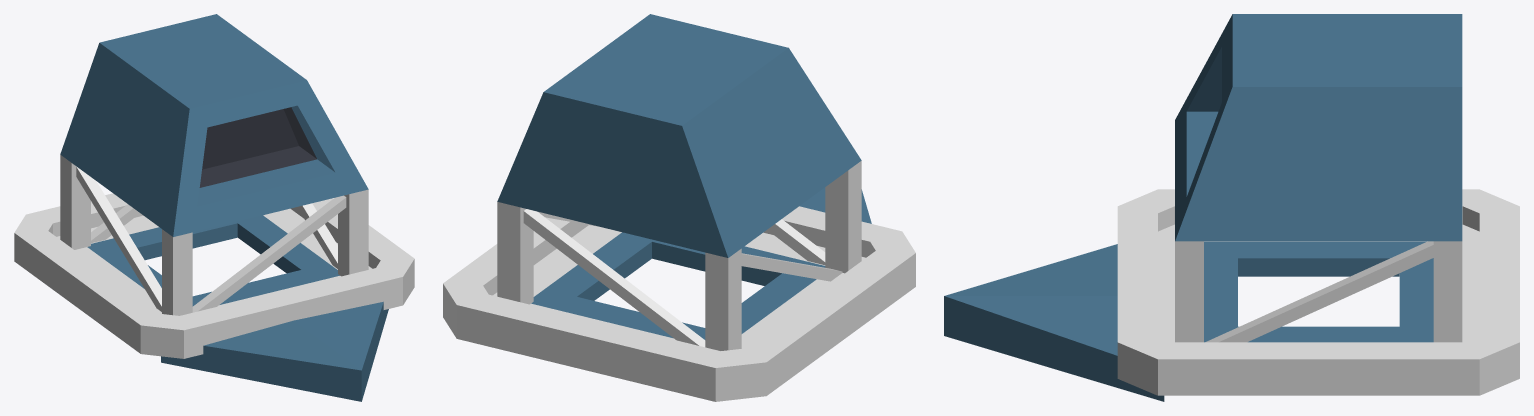
File: flying_00_03.obj
3 renders of one model, left to right at view 1: azimuth 30°, elevation 25°; view 2: azimuth 150°, elevation 25°; view 3: azimuth 270°, elevation 25°, orthographic. The views are drawn at different scales.
Visible parts, largest first — view 1: mergedBlocks; view 2: mergedBlocks; view 3: mergedBlocks.
Part boxes in pixels (x1,y1,x2,y2): mergedBlocks: (14,14,414,401); mergedBlocks: (443,14,915,401); mergedBlocks: (944,14,1519,401).
Bounding box in the file's own units: 1.4 × 1.1 × 2.
